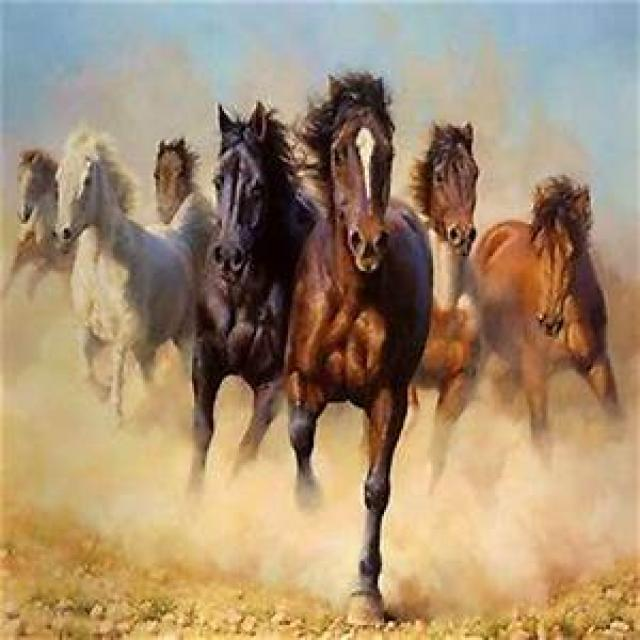horse: (288, 72, 432, 622), (191, 102, 316, 481), (58, 136, 208, 413), (474, 176, 618, 441), (411, 124, 479, 489)
